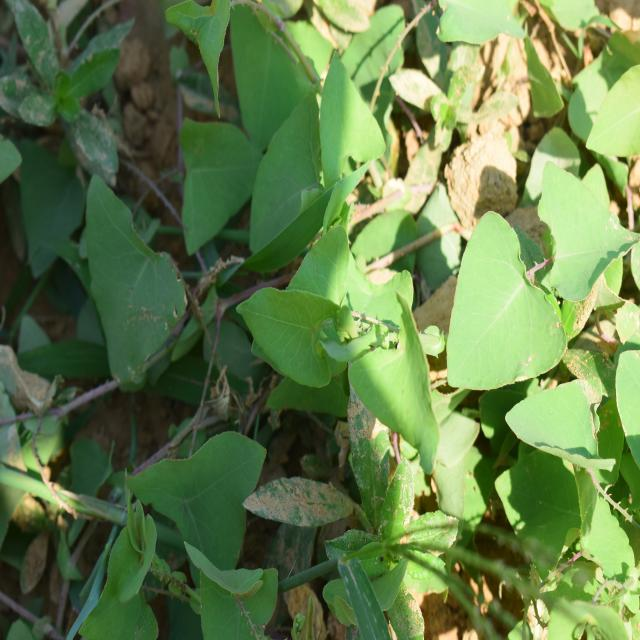Asiatic_Smartweed: (444, 150, 640, 487), (171, 21, 423, 280), (250, 216, 456, 477), (81, 168, 205, 386)
